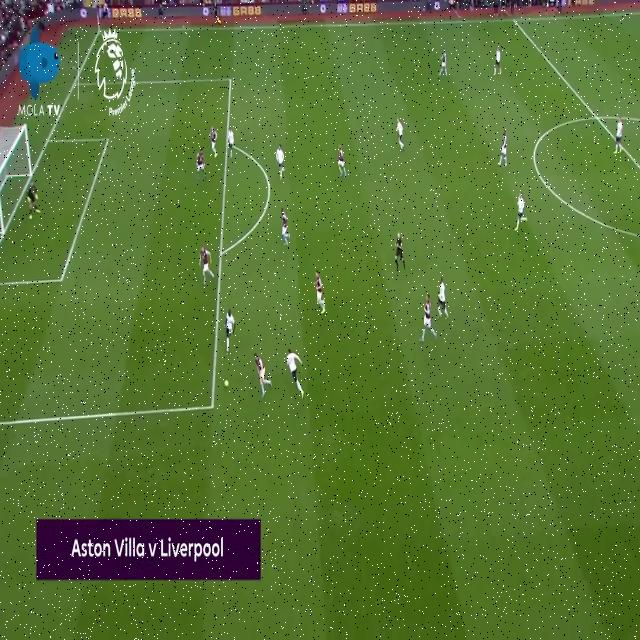Ball: (224, 379, 229, 389)
GoalKeeper: (25, 179, 41, 220)
Referee: (393, 231, 406, 272), (214, 2, 221, 26)
TEAM 1: (420, 292, 437, 342), (312, 267, 325, 314), (254, 352, 266, 397), (199, 245, 212, 284), (280, 206, 290, 246), (196, 147, 207, 181), (338, 143, 348, 180), (210, 127, 220, 158), (441, 50, 449, 76)
TEAM 2: (287, 350, 305, 400), (514, 190, 528, 232), (436, 274, 449, 318), (222, 310, 234, 357), (275, 143, 287, 183), (614, 118, 626, 156), (499, 129, 508, 169), (226, 126, 236, 158), (397, 116, 405, 154), (495, 47, 503, 75)
